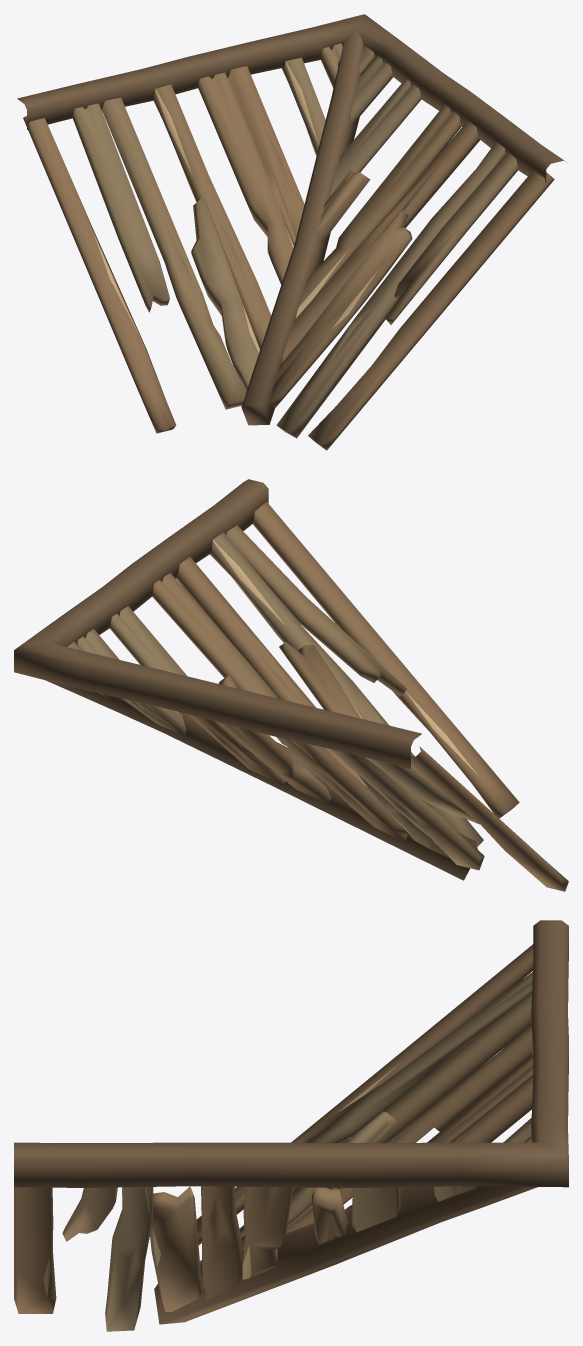
The model's file is rpgpp_av_roof_02_6x3x3_corner_01.gltf.
3 views of the same model, one above another, from view 1: azimuth 30°, elevation 25°; view 2: azimuth 150°, elevation 25°; view 3: azimuth 270°, elevation 25° (orthographic). The views are drawn at different scales.
Visible parts, largest first — view 1: rpgpp_av_roof_02_6x3x3_corner_01; view 2: rpgpp_av_roof_02_6x3x3_corner_01; view 3: rpgpp_av_roof_02_6x3x3_corner_01.
Boxes of the visible parts, bbox=[...] form: rpgpp_av_roof_02_6x3x3_corner_01: bbox=[17, 14, 565, 450]; rpgpp_av_roof_02_6x3x3_corner_01: bbox=[14, 479, 568, 891]; rpgpp_av_roof_02_6x3x3_corner_01: bbox=[14, 920, 568, 1331].
Bounding box in the file's own units: 0.062 × 0.0419 × 0.062.
1 material, 1 textured.
